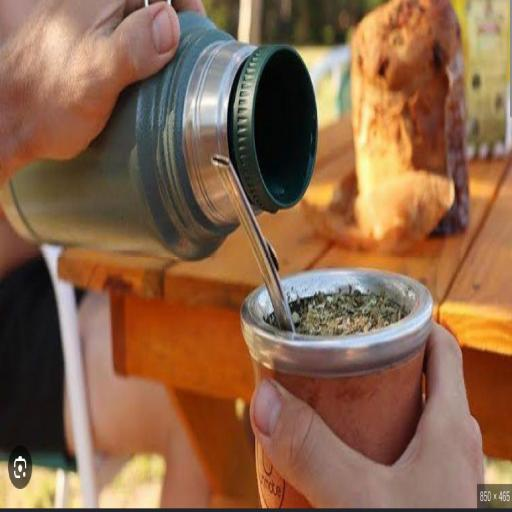bolleria: (353, 0, 469, 230)
mate: (241, 222, 432, 463), (256, 440, 309, 506)
termo: (0, 12, 317, 258)
